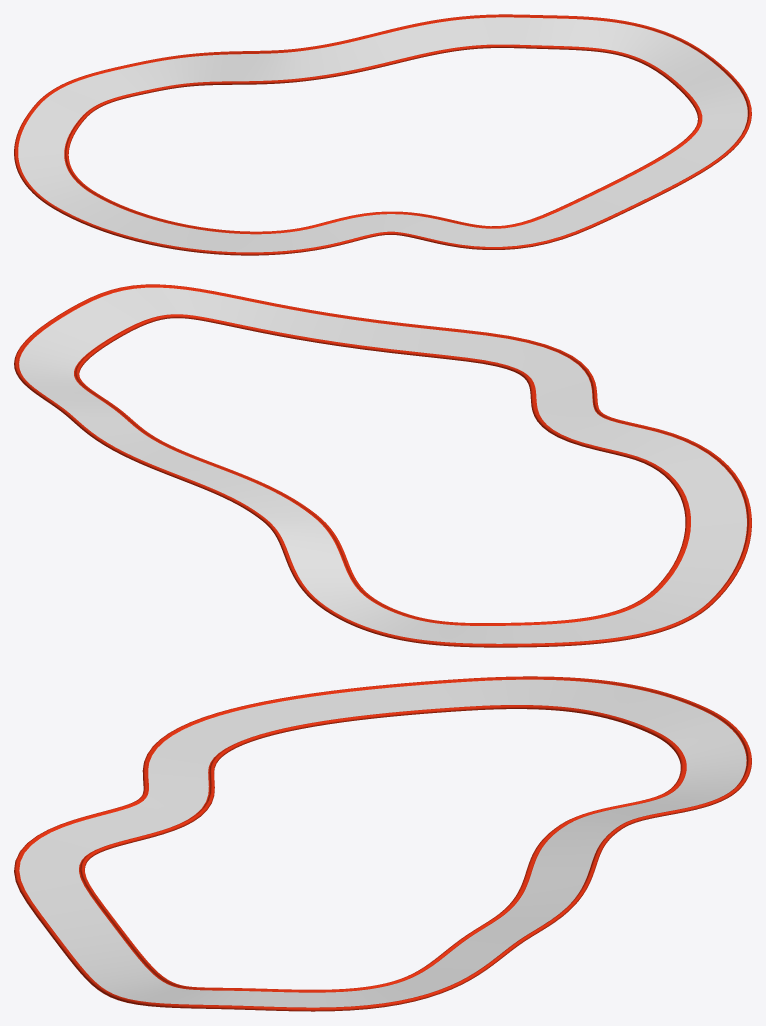
The model's file is TestTrack_3.fbx.
The picture shows the model from 3 angles, top to bottom: view 1: azimuth 30°, elevation 25°; view 2: azimuth 150°, elevation 25°; view 3: azimuth 270°, elevation 25°; orthographic projection. The views are drawn at different scales.
Visible parts, largest first — view 1: BezierCircle.002; view 2: BezierCircle.002; view 3: BezierCircle.002.
Part boxes in pixels (left/top/right/bottom): BezierCircle.002: left=14, top=14, right=751, bottom=255; BezierCircle.002: left=14, top=284, right=751, bottom=647; BezierCircle.002: left=14, top=676, right=751, bottom=1011.
Bounding box in the file's own units: 4843 × 398 × 3913.
